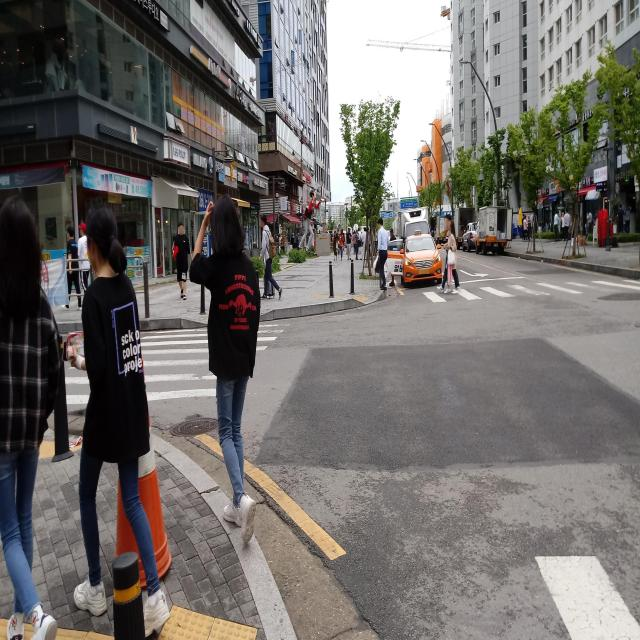횡단보도: (64, 320, 291, 406), (410, 277, 640, 303)
